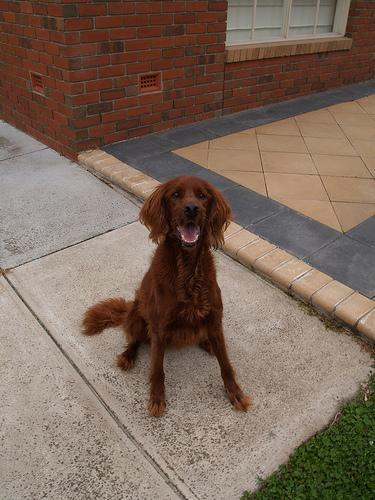Irish_setter: (81, 172, 255, 417)
